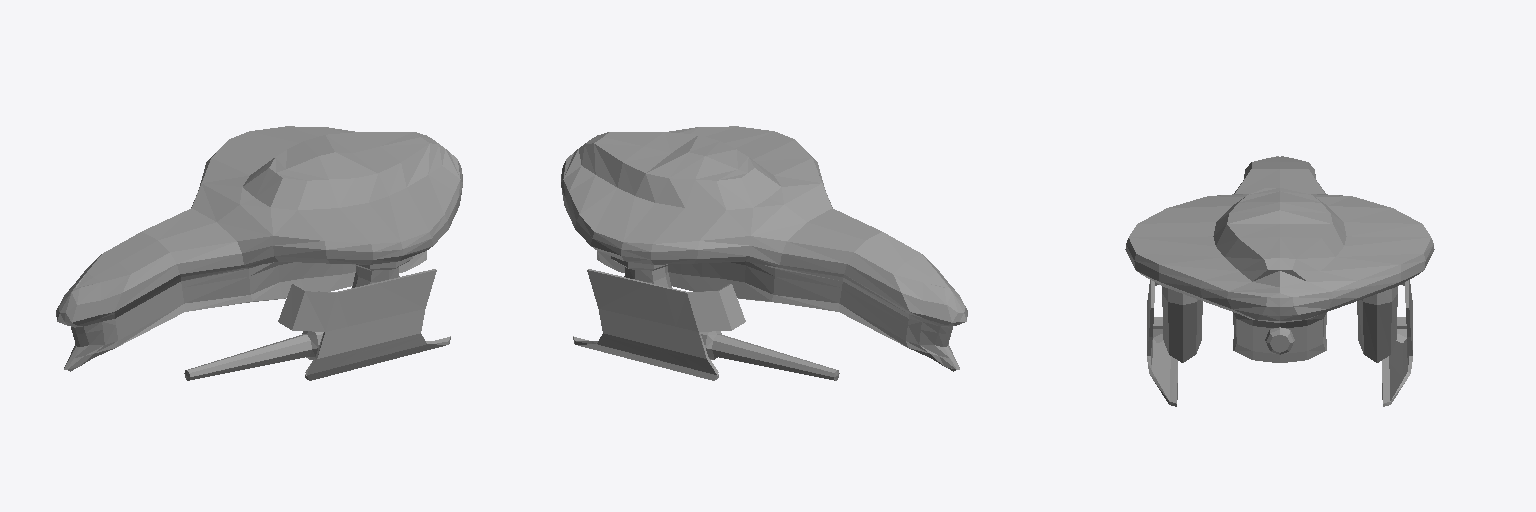
File: Machine_fighter.obj
The picture shows the model from 3 angles: view 1: azimuth 30°, elevation 25°; view 2: azimuth 150°, elevation 25°; view 3: azimuth 270°, elevation 25°; orthographic projection.
Parts seen in each view (by area): view 1: Machine_fighter.002_Plane.008; view 2: Machine_fighter.002_Plane.008; view 3: Machine_fighter.002_Plane.008.
Boxes of the visible parts, box(x1,y1,x2,y2) form: Machine_fighter.002_Plane.008: box(56, 126, 462, 380); Machine_fighter.002_Plane.008: box(561, 126, 967, 380); Machine_fighter.002_Plane.008: box(1125, 156, 1434, 406).
Bounding box in the file's own units: 15.1 × 6.13 × 10.15.